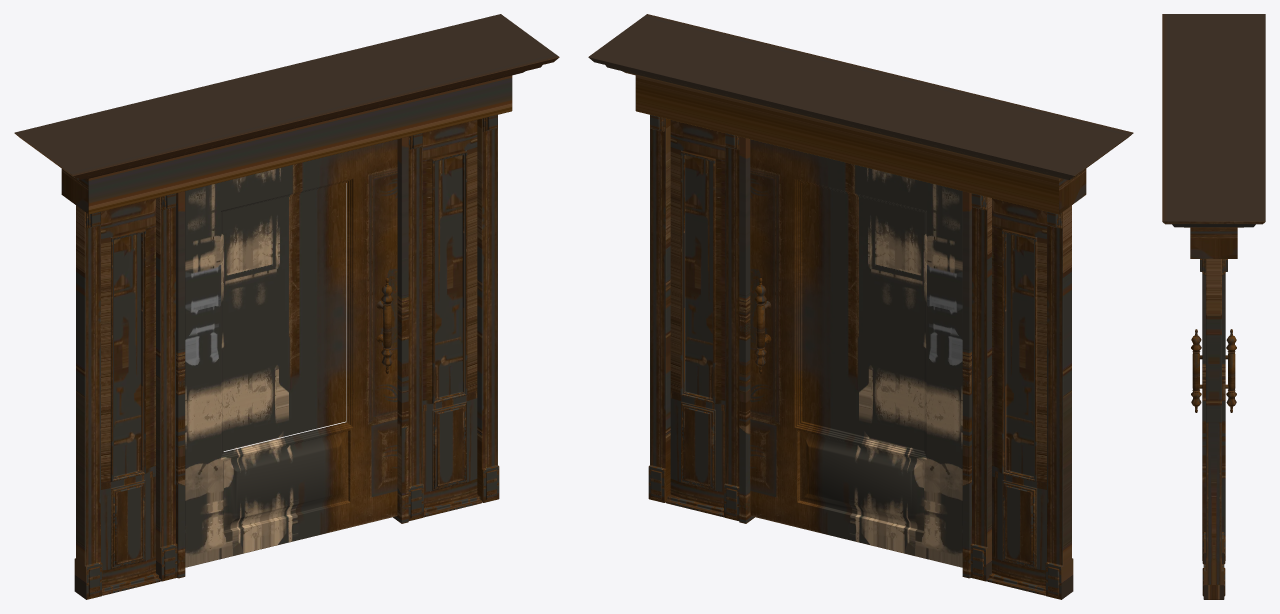
Rendered from porta.glb.
The picture shows the model from 3 angles, left to right: view 1: azimuth 30°, elevation 25°; view 2: azimuth 150°, elevation 25°; view 3: azimuth 270°, elevation 25°; orthographic projection. The views are drawn at different scales.
Parts seen in each view (by area): view 1: Base_2, Door_2; view 2: Base_2, Door_2; view 3: Base_2, Door_2.
Part boxes in pixels (x1,y1,x2,y2): Base_2: [14, 14, 559, 599]; Door_2: [185, 139, 397, 567]; Base_2: [588, 14, 1133, 599]; Door_2: [750, 139, 962, 567]; Base_2: [1162, 14, 1265, 599]; Door_2: [1191, 329, 1236, 412].
Bounding box in the file's own units: 772 × 683 × 162.
2 materials, 2 textured.
